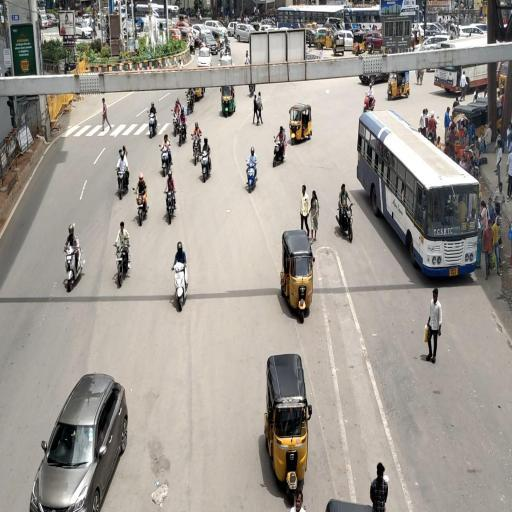helmet: (60, 214, 105, 304), (160, 228, 206, 311), (116, 142, 131, 194)
